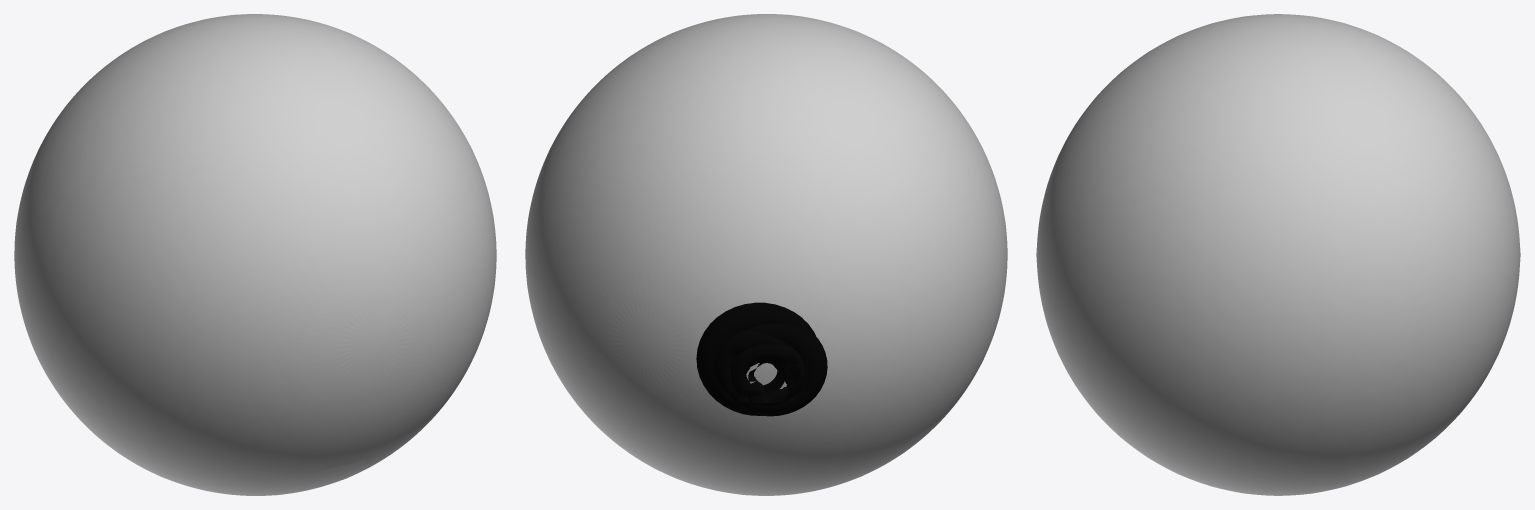
Rendered from redplanet.fbx.
The picture shows the model from 3 angles, left to right: view 1: azimuth 30°, elevation 25°; view 2: azimuth 150°, elevation 25°; view 3: azimuth 270°, elevation 25°; orthographic projection.
Visible parts, largest first — view 1: null_; view 2: null_, polySurface3, polySurface2; view 3: null_.
Boxes of the visible parts, <box> form: null_: <box>14,14,496,495</box>; null_: <box>525,14,1007,495</box>; polySurface3: <box>728,323,827,416</box>; polySurface2: <box>696,302,815,415</box>; null_: <box>1036,14,1520,495</box>.
Bounding box in the file's own units: 9.95 × 9.95 × 9.99.
